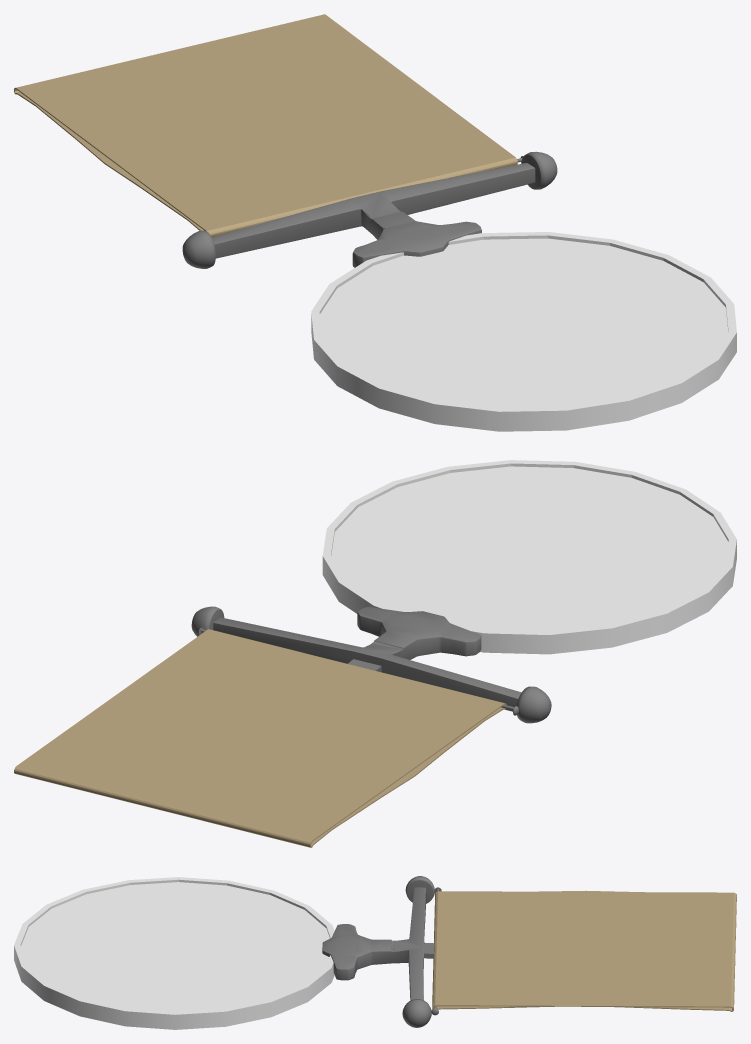
Rendered from MedallaDeGuerra.fbx.
The picture shows the model from 3 angles, top to bottom: view 1: azimuth 30°, elevation 25°; view 2: azimuth 150°, elevation 25°; view 3: azimuth 270°, elevation 25°; orthographic projection. The views are drawn at different scales.
Parts seen in each view (by area): view 1: MedallaGuerra004; view 2: MedallaGuerra004; view 3: MedallaGuerra004.
Part boxes in pixels (box(x1,y1,x2,y2)): MedallaGuerra004: box(14, 14, 736, 431); MedallaGuerra004: box(14, 460, 736, 847); MedallaGuerra004: box(14, 876, 736, 1029).
Size of the model in its own units: 1.67 by 0.1498 by 3.67.
